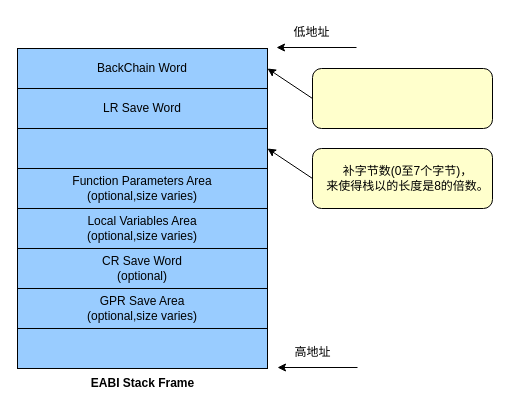
The diagram is 525 pixels wide and 415 high, and some of its shapes have lost their labels. The shapes that lost their labels are listed below. From the top down, each one's centre as x and y in pixels, then its label:
At point 402,98: "保存的是上一个栈帧的栈顶地址， 即上一个栈帧的低地址。".
At point 142,148: "Padding to adjust size to multiple of 8 bytes (optional,size varies)".
At point 142,348: "FPR Save Area (optional,size varies)".
